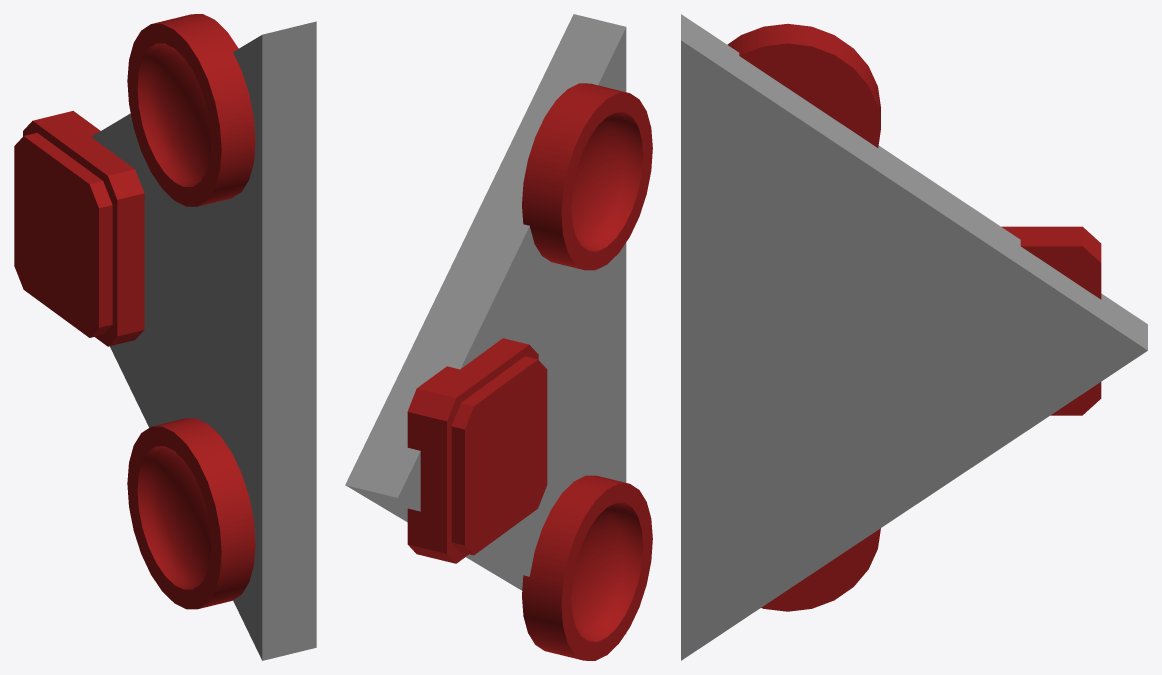
Rendered from Gate-OR.obj.
The picture shows the model from 3 angles, left to right: view 1: azimuth 30°, elevation 25°; view 2: azimuth 150°, elevation 25°; view 3: azimuth 270°, elevation 25°; orthographic projection. The views are drawn at different scales.
Visible parts, largest first — view 1: Handle, Output, InputB, InputA; view 2: Handle, Output, InputB, InputA; view 3: Handle, InputB, Output, InputA.
Boxes of the visible parts, box(x1,y1,x2,y2) form: Handle: box(91, 21, 316, 660); Output: box(14, 111, 144, 346); InputB: box(127, 14, 255, 206); InputA: box(127, 418, 255, 609); Handle: box(345, 14, 626, 634); Output: box(407, 338, 547, 563); InputB: box(522, 83, 652, 270); InputA: box(522, 475, 652, 660); Handle: box(681, 14, 1147, 660); InputB: box(727, 23, 880, 147); Output: box(1001, 226, 1101, 415); InputA: box(761, 528, 880, 611).
Size of the model in its own units: 0.35 by 2.2 by 1.5.
